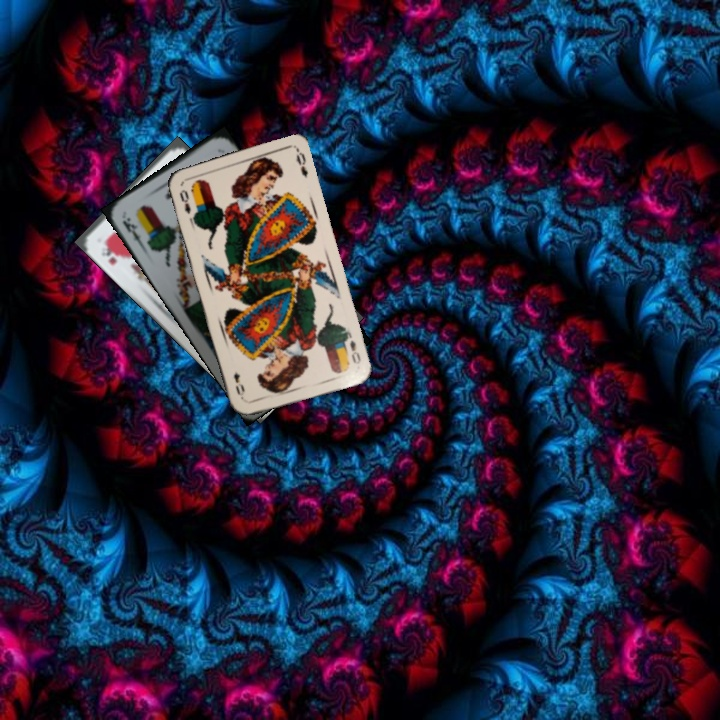EK: (118, 213, 146, 249)
EO: (340, 329, 363, 367), (176, 185, 193, 216)
HK: (97, 238, 120, 267)
